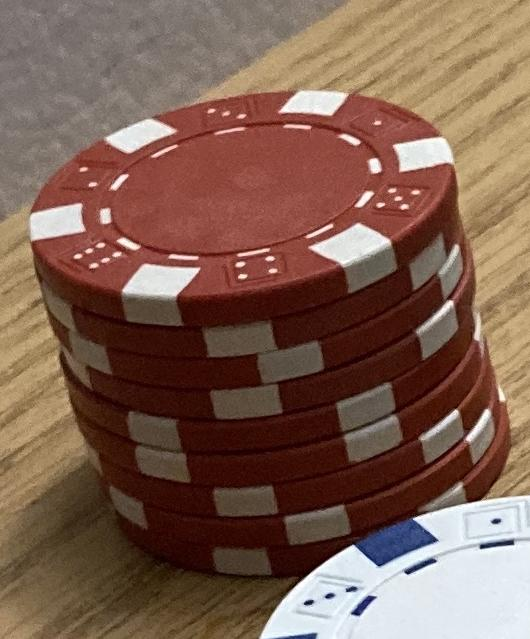Chip: (1, 1, 530, 639)
